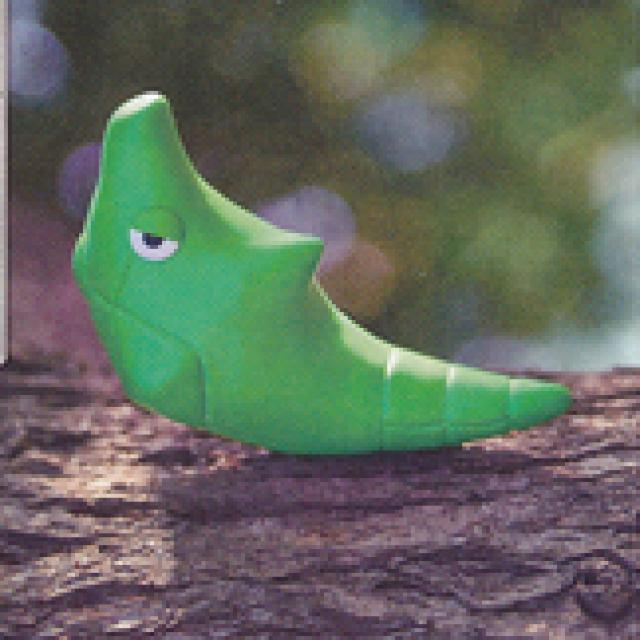Metapod: (69, 88, 575, 457)
